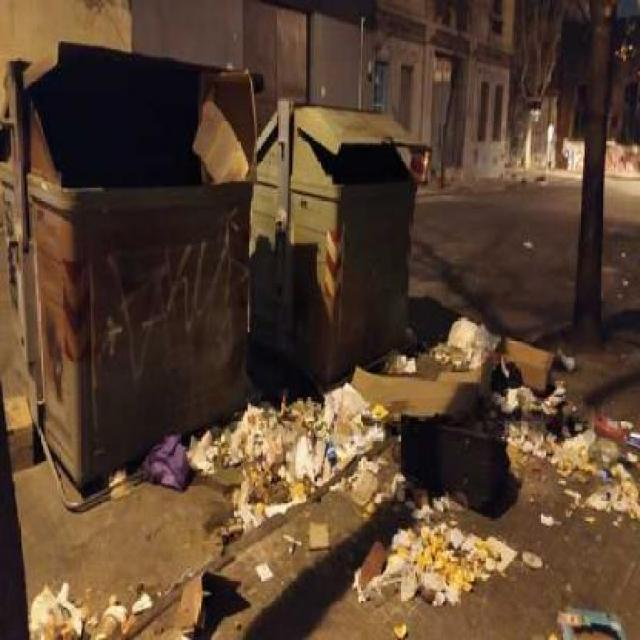garbage: (145, 403, 528, 608), (366, 316, 639, 529), (15, 554, 258, 638)
